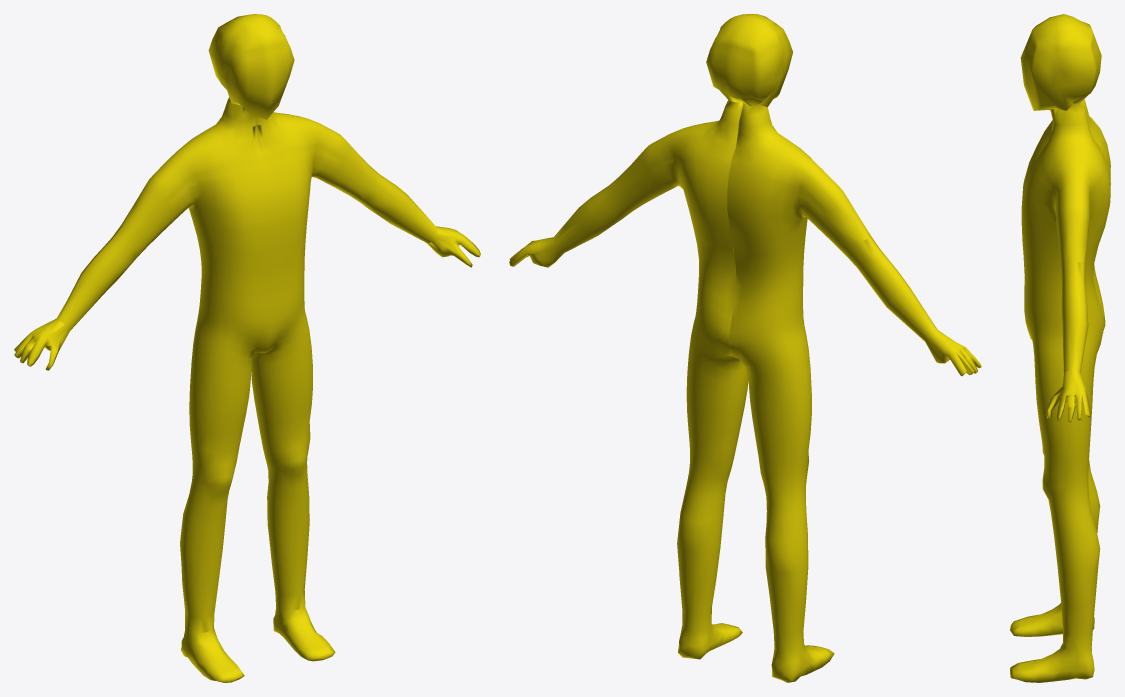
The model's file is yellow_dummy.dae.
3 renders of one model, left to right at view 1: azimuth 30°, elevation 25°; view 2: azimuth 150°, elevation 25°; view 3: azimuth 270°, elevation 25°, orthographic.
Visible parts, largest first — view 1: Cube; view 2: Cube; view 3: Cube.
Boxes of the visible parts, bbox=[...] form: Cube: bbox=[14, 14, 480, 682]; Cube: bbox=[509, 14, 981, 682]; Cube: bbox=[1010, 14, 1110, 682].
Bounding box in the file's own units: 1.51 × 0.2888 × 2.01.
